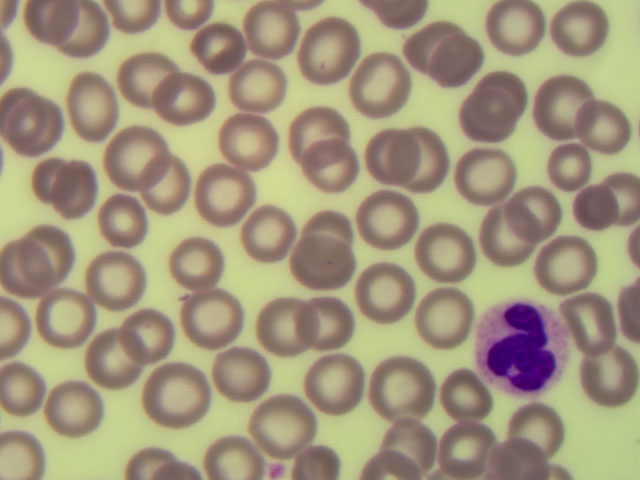RBC: (480, 421, 544, 480), (204, 421, 268, 480), (118, 47, 182, 105), (148, 68, 212, 126), (64, 78, 128, 136), (5, 102, 69, 160), (39, 155, 103, 213), (103, 131, 167, 189), (143, 156, 207, 214), (189, 162, 253, 220), (207, 119, 271, 177), (222, 62, 286, 120), (191, 12, 255, 70), (294, 21, 358, 79), (355, 56, 419, 114), (396, 16, 460, 74), (436, 48, 500, 106), (467, 89, 531, 147), (529, 65, 593, 123), (487, 3, 551, 61), (548, 1, 612, 59), (574, 90, 638, 148), (528, 138, 592, 196), (564, 182, 628, 240), (534, 234, 598, 292), (559, 296, 623, 354), (576, 348, 640, 406), (509, 183, 573, 241), (480, 208, 544, 266), (452, 131, 516, 189), (412, 222, 476, 280), (400, 128, 464, 186), (363, 122, 427, 180), (308, 144, 372, 202), (270, 107, 334, 165), (297, 203, 361, 261), (287, 237, 351, 295), (239, 205, 303, 263), (356, 192, 420, 250), (349, 259, 413, 317), (407, 289, 471, 347), (372, 352, 436, 410), (433, 368, 497, 426), (423, 412, 487, 470), (500, 393, 564, 451), (376, 412, 440, 470), (306, 356, 370, 414), (301, 285, 365, 343), (248, 295, 312, 353), (218, 344, 282, 402), (246, 393, 310, 451), (144, 365, 208, 423), (184, 290, 248, 348), (162, 234, 226, 292), (124, 306, 188, 364), (85, 324, 149, 382), (79, 250, 143, 308), (94, 194, 158, 252), (41, 283, 105, 341), (39, 375, 103, 433), (18, 221, 82, 279), (1, 357, 64, 415), (1, 243, 64, 301), (229, 1, 293, 58), (44, 1, 108, 58)
WBC: (468, 294, 567, 397)
